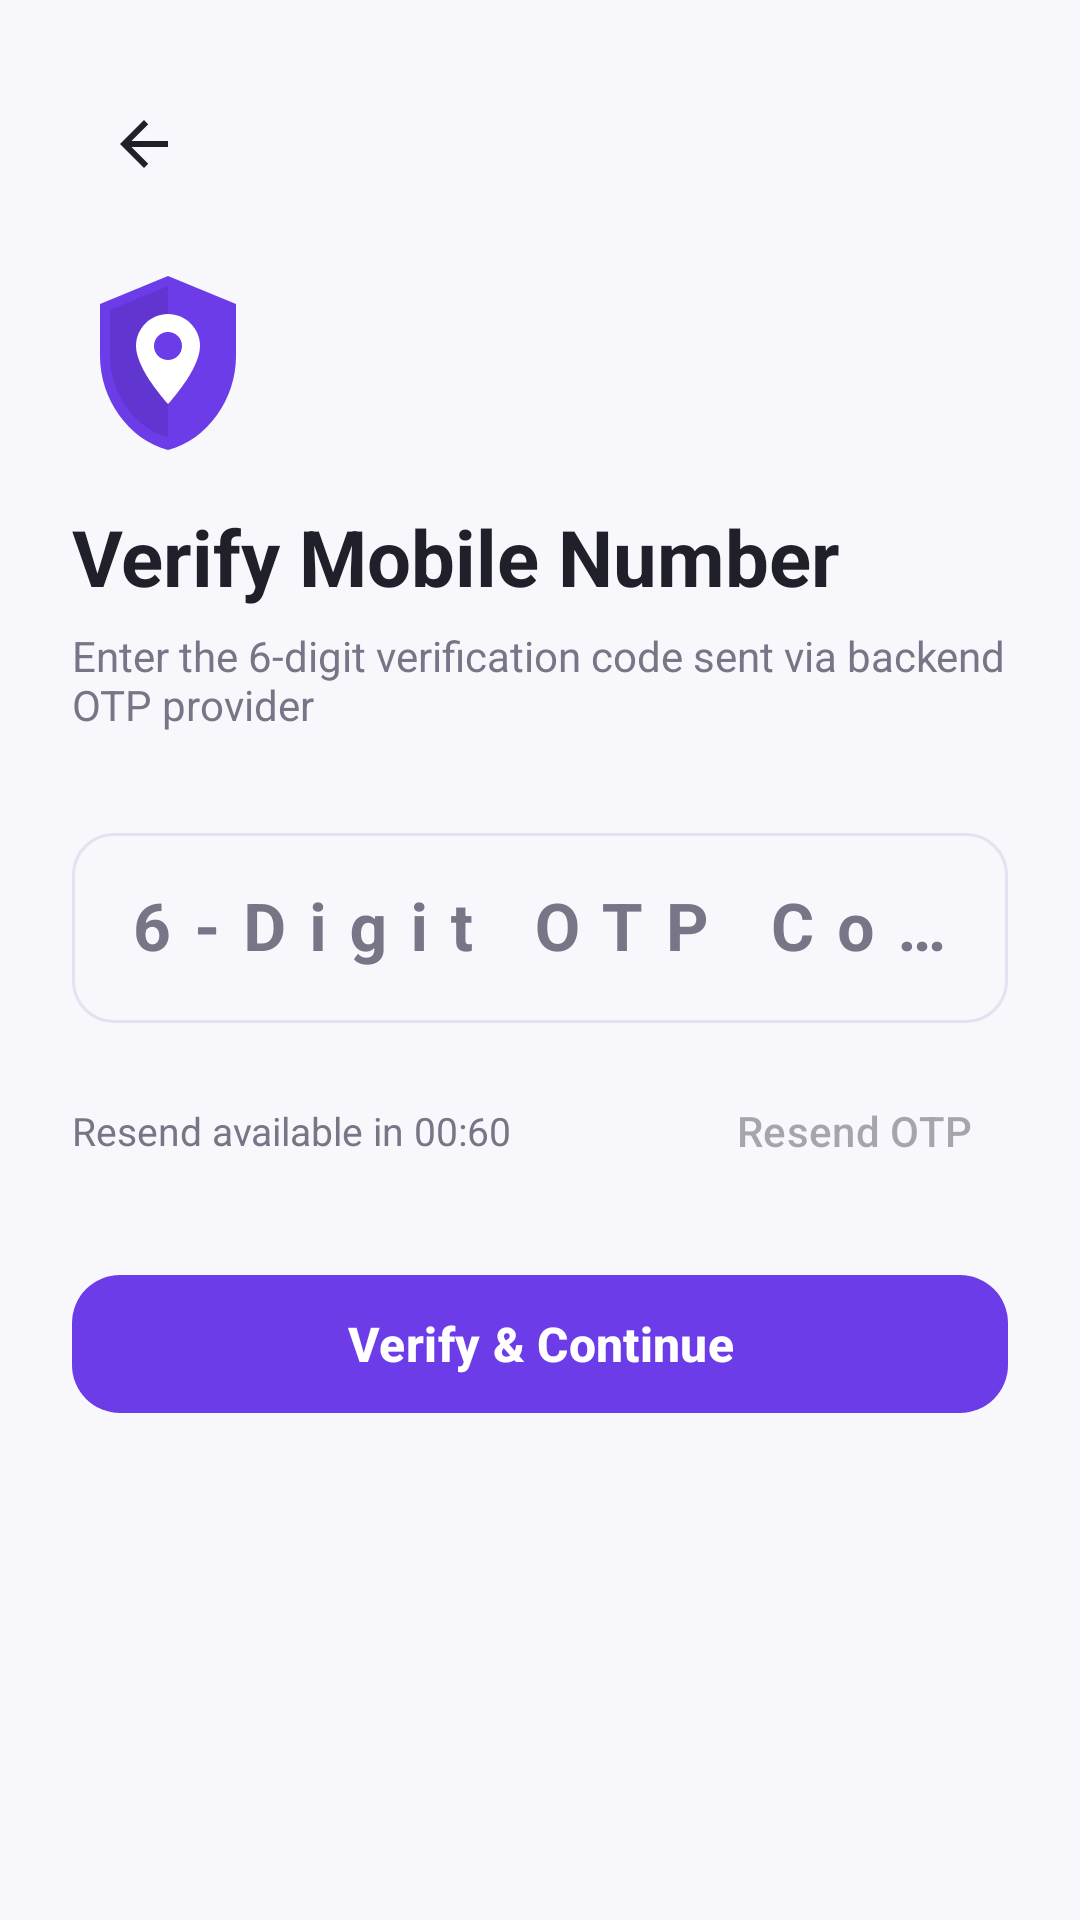

Icons on this 1080 × 1920 Android screen, each with the point to tap as [x,y]:
Back: [144,144]
